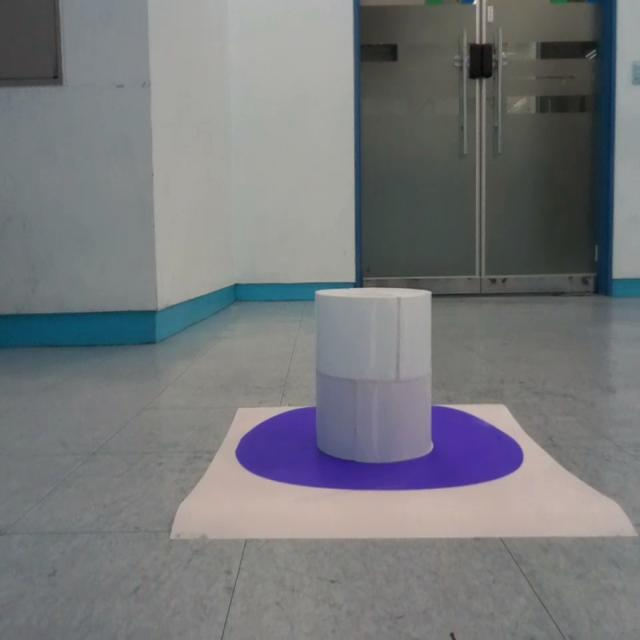cylinder: (315, 287, 434, 465)
